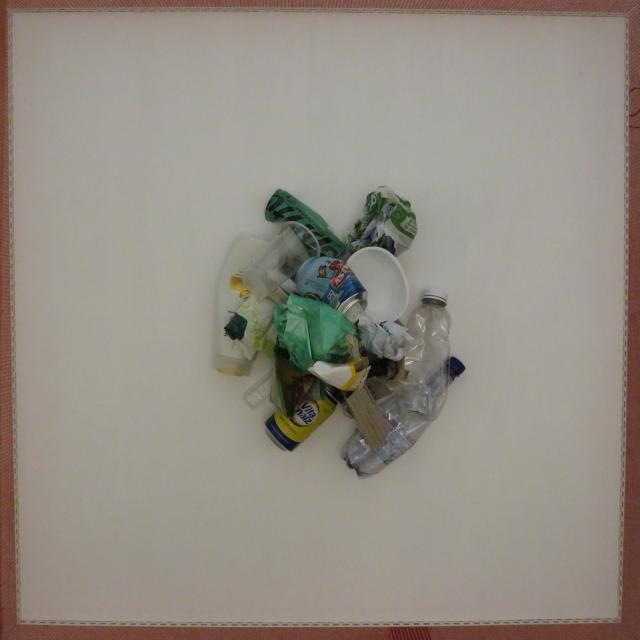cardboard: (309, 334, 370, 391), (347, 385, 390, 451), (266, 268, 296, 304), (281, 255, 305, 277)
hard_plastic: (340, 357, 465, 479), (212, 236, 268, 376), (396, 290, 451, 422), (242, 221, 320, 297), (347, 247, 409, 322), (241, 370, 273, 410)
metal: (265, 189, 348, 258), (295, 257, 367, 323), (265, 386, 337, 451)
soft_plastic: (274, 294, 361, 371), (343, 186, 417, 257), (270, 345, 326, 418), (224, 294, 277, 358), (358, 312, 414, 360), (362, 349, 408, 400)
